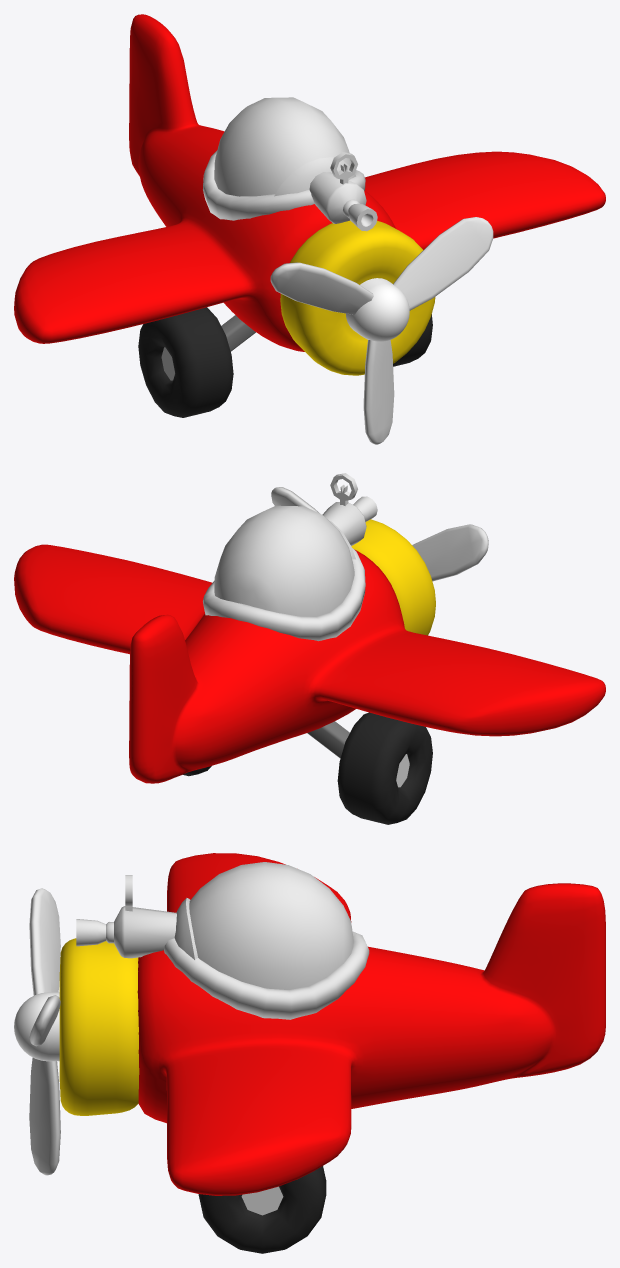
The model's file is PlayerPlane.fbx.
3 views of the same model, one above another, from view 1: azimuth 30°, elevation 25°; view 2: azimuth 150°, elevation 25°; view 3: azimuth 270°, elevation 25° (orthographic). The views are drawn at different scales.
Parts seen in each view (by area): view 1: Cylinder.024, Cylinder.021, Plane, Sphere.008, Cylinder.020, Circle.001, Sphere.009, Cylinder.022, Sphere.010, Cube.007; view 2: Cylinder.024, Sphere.008, Cylinder.020, Cylinder.021, Circle.001, Plane, Cylinder.022, Cube.007, Circle.003; view 3: Cylinder.024, Sphere.008, Cylinder.021, Plane, Cylinder.020, Circle.001, Cylinder.022, Sphere.009, Sphere.010, Cylinder.015.
Boxes of the visible parts, x1,y1,x2,y2 form: Cylinder.024: (14, 14, 605, 351); Cylinder.021: (280, 220, 435, 375); Plane: (270, 217, 493, 444); Sphere.008: (214, 97, 351, 196); Cylinder.020: (138, 307, 432, 417); Circle.001: (203, 150, 365, 220); Sphere.009: (346, 278, 409, 341); Cylinder.022: (309, 172, 377, 231); Sphere.010: (274, 157, 355, 196); Cube.007: (221, 315, 255, 351); Cylinder.024: (14, 544, 605, 783); Sphere.008: (214, 505, 354, 616); Cylinder.020: (183, 712, 432, 824); Cylinder.021: (351, 519, 435, 635); Circle.001: (203, 548, 365, 641); Plane: (271, 487, 488, 581); Cylinder.022: (322, 496, 377, 545); Cube.007: (307, 721, 349, 758); Circle.003: (330, 473, 357, 505); Cylinder.024: (137, 853, 605, 1195); Sphere.008: (189, 862, 353, 989); Cylinder.021: (59, 938, 139, 1115); Plane: (29, 888, 60, 1175); Cylinder.020: (198, 1166, 326, 1253); Circle.001: (164, 931, 369, 1019); Cylinder.022: (76, 906, 176, 958); Sphere.009: (14, 992, 59, 1061); Sphere.010: (174, 898, 197, 959); Cylinder.015: (241, 1186, 283, 1215).
Size of the model in its own units: 747 by 353 by 587.
